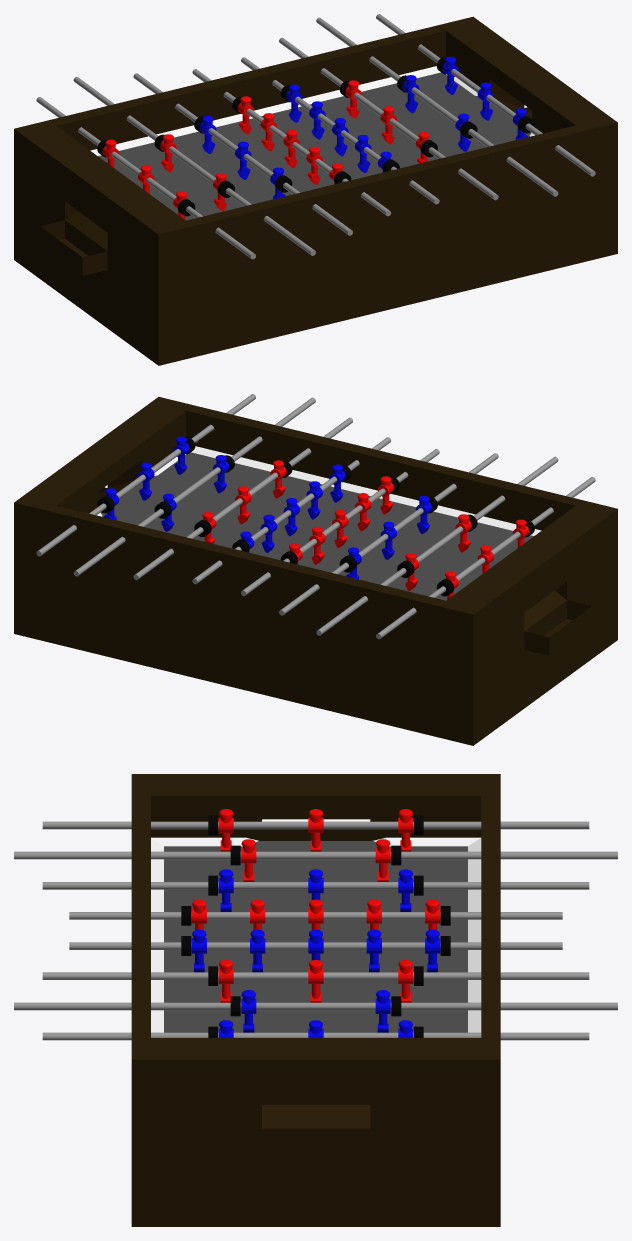
The model's file is Foosball_Old.fbx.
The picture shows the model from 3 angles, top to bottom: view 1: azimuth 30°, elevation 25°; view 2: azimuth 150°, elevation 25°; view 3: azimuth 270°, elevation 25°; orthographic projection. The views are drawn at different scales.
Parts seen in each view (by area): view 1: Table_Body, Table_Field, Table_Field_Ramps, Blue_Rod_Defence, Red_Rod_Defence, Red_Rod_Attack, Blue_Rod_Attack, Red_Rod_Goalkeeper, Blue_Rod_Goalkeeper, Blue_Midfield_Rod, Red_Midfield_Rod; view 2: Table_Body, Table_Field, Table_Field_Ramps, Blue_Rod_Defence, Red_Rod_Defence, Red_Rod_Attack, Red_Rod_Goalkeeper, Blue_Rod_Goalkeeper, Blue_Rod_Attack, Blue_Midfield_Rod, Red_Midfield_Rod; view 3: Table_Body, Table_Field, Table_Field_Ramps, Blue_Rod_Defence, Red_Rod_Defence, Red_Rod_Goalkeeper, Blue_Rod_Attack, Red_Rod_Attack, Blue_Rod_Goalkeeper, Blue_Midfield_Rod, Red_Midfield_Rod.
Part boxes in pixels (x1,y1,x2,y2): Table_Body: (14, 16, 617, 365); Table_Field: (98, 72, 531, 220); Table_Field_Ramps: (90, 66, 534, 155); Blue_Rod_Defence: (316, 17, 558, 196); Red_Rod_Defence: (73, 77, 315, 255); Red_Rod_Attack: (279, 37, 498, 200); Blue_Rod_Attack: (133, 73, 352, 235); Red_Rod_Goalkeeper: (36, 97, 255, 259); Blue_Rod_Goalkeeper: (376, 14, 595, 176); Blue_Midfield_Rod: (241, 57, 439, 204); Red_Midfield_Rod: (192, 69, 390, 216); Table_Body: (14, 397, 617, 745); Table_Field: (100, 452, 533, 600); Table_Field_Ramps: (97, 446, 541, 535); Blue_Rod_Defence: (73, 397, 315, 576); Red_Rod_Defence: (316, 456, 558, 635); Red_Rod_Attack: (133, 417, 352, 580); Red_Rod_Goalkeeper: (376, 477, 595, 639); Blue_Rod_Goalkeeper: (36, 394, 255, 556); Blue_Rod_Attack: (279, 453, 498, 615); Blue_Midfield_Rod: (192, 437, 390, 584); Red_Midfield_Rod: (241, 449, 439, 596); Table_Body: (131, 774, 500, 1226); Table_Field: (164, 841, 467, 1032); Table_Field_Ramps: (151, 837, 481, 1032); Blue_Rod_Defence: (14, 1002, 617, 1010); Red_Rod_Defence: (14, 851, 617, 859); Red_Rod_Goalkeeper: (42, 821, 589, 829); Blue_Rod_Attack: (42, 882, 589, 889); Red_Rod_Attack: (42, 972, 589, 979); Blue_Rod_Goalkeeper: (42, 1032, 589, 1040); Blue_Midfield_Rod: (69, 942, 562, 949); Red_Midfield_Rod: (69, 912, 562, 919).
Bounding box in the file's own units: 155 × 38.18 × 125.
